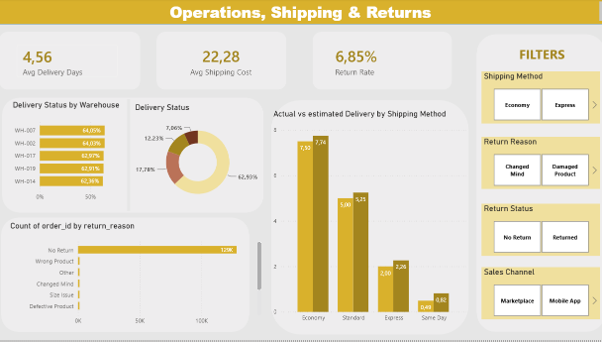

This screenshot's page, from the dashboard's own definition file:
{"tool":"powerbi","page":{"name":"Product and Operations ","canvas":[1280,720],"ordinal":2},"visuals":[{"type":"shape","box":[0,0,1280,53.5],"z":0},{"type":"shape","box":[0,69,298,122.4],"z":1000},{"type":"shape","box":[332.5,69,274,122.4],"z":2000},{"type":"shape","box":[662,69,293.9,122.4],"z":3000},{"type":"shape","box":[6.3,208.1,552.2,242.6],"z":4000},{"type":"shape","box":[574.1,213.3,417.3,494.6],"z":5000},{"type":"shape","box":[1008.1,74.2,271.9,628.5],"z":6000},{"type":"clusteredColumnChart","title":"Actual vs estimated Delivery by Shipping Method","fields":{"Category":["Table1.shipping_method"],"Y":["Avg(Table1.estimated_delivery_days)","Avg(Table1.delivery_days)"]},"box":[574.1,232.2,417.3,458],"z":7000},{"type":"clusteredBarChart","title":"Delivery Status by Warehouse","fields":{"Category":["Table1.warehouse"],"Y":["All Measures.On-Time %"]},"box":[24.1,213.3,249.9,221.7],"z":8000},{"type":"shape","box":[4.2,461.2,523.9,241.6],"z":9000},{"type":"clusteredBarChart","fields":{"Category":["Table1.return_reason"],"Y":["CountNonNull(Table1.order_id)"]},"box":[18.8,468.5,539.6,228],"z":10000},{"type":"cardVisual","fields":{"Data":["All Measures.Avg Delivery Days"]},"box":[19.9,79.5,247.8,102.5],"z":11000},{"type":"cardVisual","fields":{"Data":["All Measures.Avg Shipping Cost"]},"box":[355.6,79.5,226.9,102.5],"z":12000},{"type":"cardVisual","fields":{"Data":["All Measures.Return Rate"]},"box":[680.8,79.5,247.8,102.5],"z":13000},{"type":"slicer","title":"Shipping Method","fields":{"Values":["Table1.shipping_method"]},"box":[1018.6,152.7,249.9,109.8],"z":14000},{"type":"slicer","title":"Return  Reason","fields":{"Values":["Table1.return_reason"]},"box":[1018.6,290.7,249.9,109.8],"z":15000},{"type":"slicer","title":"Return Status","fields":{"Values":["Table1.return_status"]},"box":[1018.6,431.9,249.9,109.8],"z":16000},{"type":"slicer","title":"Sales Channel","fields":{"Values":["Table1.sales_channel"]},"box":[1018.6,565.8,249.9,109.8],"z":17000},{"type":"textbox","box":[1018.6,92,255.2,52.3],"z":18000},{"type":"donutChart","title":"Delivery Status","fields":{"Category":["Table1.delivery_status"],"Y":["CountNonNull(Table1.order_id)"]},"box":[282.4,218.6,274,221.7],"z":19000},{"type":"shape","box":[268.8,211.2,9.4,236.3],"z":20000},{"type":"textbox","box":[0,0,1280,53.3],"z":20001}]}

Visuals, with their boxes in screenshot pixels (x1, y1, x2, y2), scaled from the page's 1280x720 canvas onto the 602x342 screenshot:
shape: BBox(0, 0, 601, 25)
shape: BBox(0, 33, 140, 91)
shape: BBox(156, 33, 285, 91)
shape: BBox(311, 33, 450, 91)
shape: BBox(3, 99, 263, 214)
shape: BBox(270, 101, 466, 336)
shape: BBox(474, 35, 601, 334)
"Actual vs estimated Delivery by Shipping Method" clusteredColumnChart: BBox(270, 110, 466, 328)
"Delivery Status by Warehouse" clusteredBarChart: BBox(11, 101, 129, 207)
shape: BBox(2, 219, 248, 334)
clusteredBarChart - Table1.return_reason x CountNonNull(Table1.order_id): BBox(9, 223, 263, 331)
cardVisual - All Measures.Avg Delivery Days: BBox(9, 38, 126, 86)
cardVisual - All Measures.Avg Shipping Cost: BBox(167, 38, 274, 86)
cardVisual - All Measures.Return Rate: BBox(320, 38, 437, 86)
"Shipping Method" slicer: BBox(479, 73, 597, 125)
"Return  Reason" slicer: BBox(479, 138, 597, 190)
"Return Status" slicer: BBox(479, 205, 597, 257)
"Sales Channel" slicer: BBox(479, 269, 597, 321)
textbox: BBox(479, 44, 599, 69)
"Delivery Status" donutChart: BBox(133, 104, 262, 209)
shape: BBox(126, 100, 131, 213)
textbox: BBox(0, 0, 601, 25)
